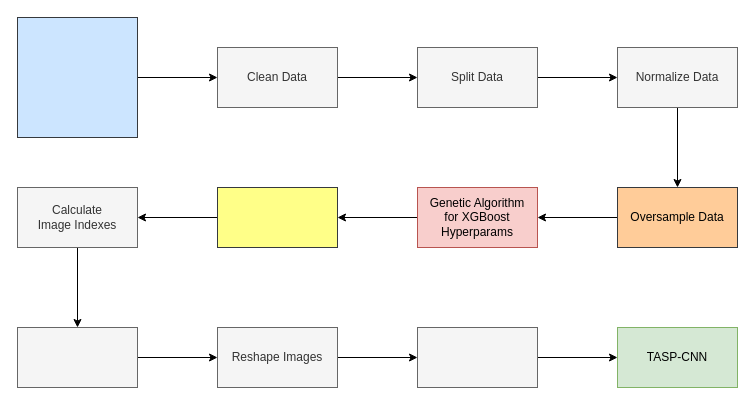
The diagram is 755 pixels wide and 405 high, and some of its shapes have lost their labels. Here are the shapes that lost their labels. From the top down, the centre of each, then its label:
(x=77, y=77): Import Data
(x=277, y=217): Calculate XGBoost Feature Weights
(x=77, y=357): Build Images
(x=477, y=357): One-hot encoding
